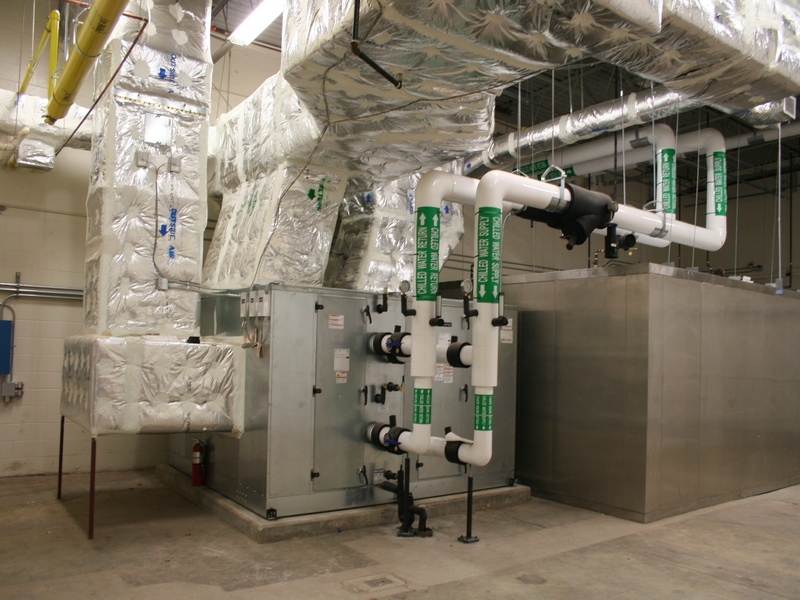valve: (398, 371, 408, 396)
